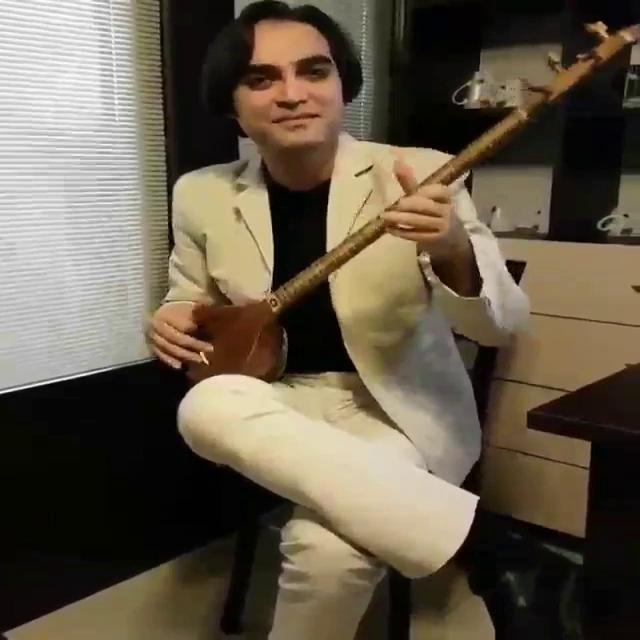Setar: (135, 17, 628, 407)
